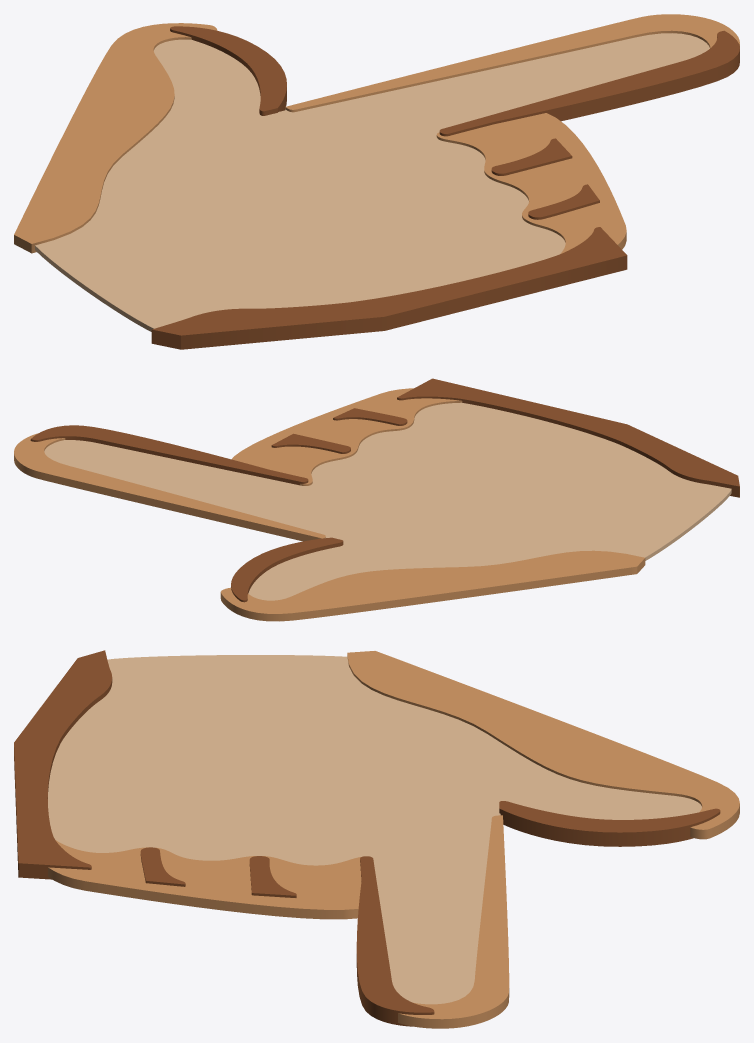
The model's file is emoji_u1f449_1f3fc.glb.
The picture shows the model from 3 angles, top to bottom: view 1: azimuth 30°, elevation 25°; view 2: azimuth 150°, elevation 25°; view 3: azimuth 270°, elevation 25°; orthographic projection. The views are drawn at different scales.
Visible parts, largest first — view 1: emoji_u1f449_1f3fc; view 2: emoji_u1f449_1f3fc; view 3: emoji_u1f449_1f3fc.
Boxes of the visible parts, bbox=[...] form: emoji_u1f449_1f3fc: bbox=[14, 14, 739, 349]; emoji_u1f449_1f3fc: bbox=[14, 378, 739, 621]; emoji_u1f449_1f3fc: bbox=[14, 650, 739, 1028].
Bounding box in the file's own units: 0.0331 × 0.0006 × 0.0276.
